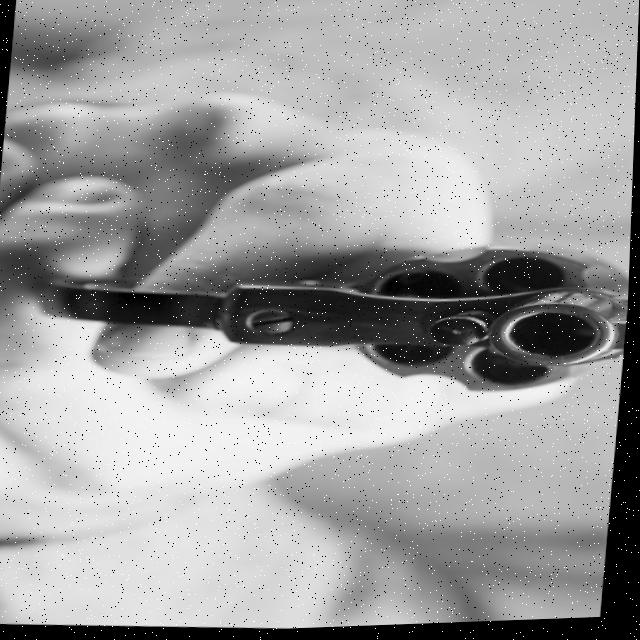pistol: (43, 223, 633, 414)
